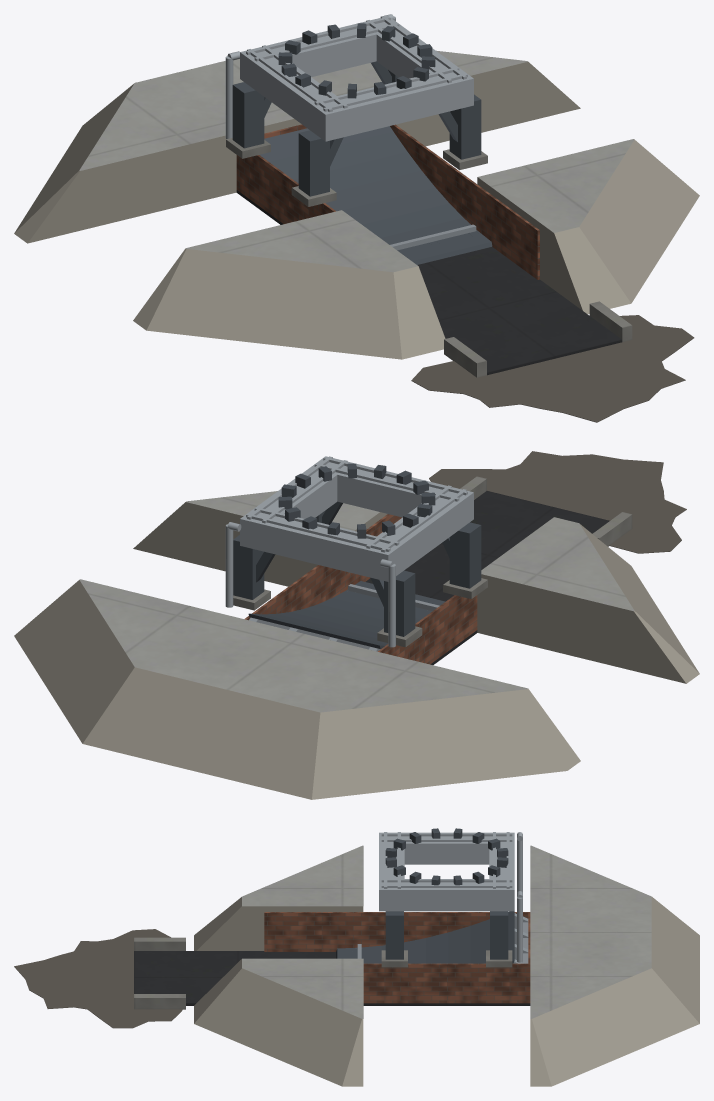
The model's file is mount_olm2.glb.
3 renders of one model, top to bottom at view 1: azimuth 30°, elevation 25°; view 2: azimuth 150°, elevation 25°; view 3: azimuth 270°, elevation 25°, orthographic. The views are drawn at different scales.
Parts seen in each view (by area): view 1: hardstand, mount_olm2; view 2: hardstand, mount_olm2; view 3: hardstand, mount_olm2.
Boxes of the visible parts, x1,y1,x2,y2 form: hardstand: (14,50,699,422); mount_olm2: (225,14,492,264); hardstand: (14,451,699,799); mount_olm2: (225,456,487,651); hardstand: (14,845,699,1086); mount_olm2: (336,828,528,967).
Bounding box in the file's own units: 19.4 × 5.3 × 26.3.
Materials: 9 (4 with a texture image).
